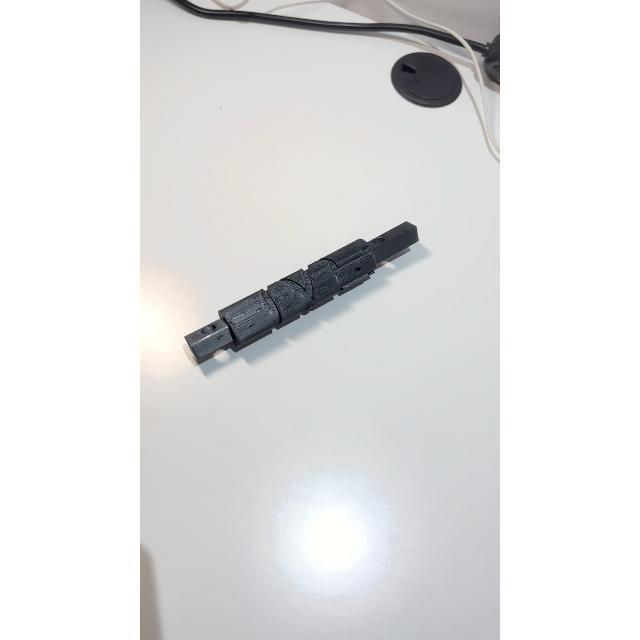Pieza1: (177, 205, 427, 381)
